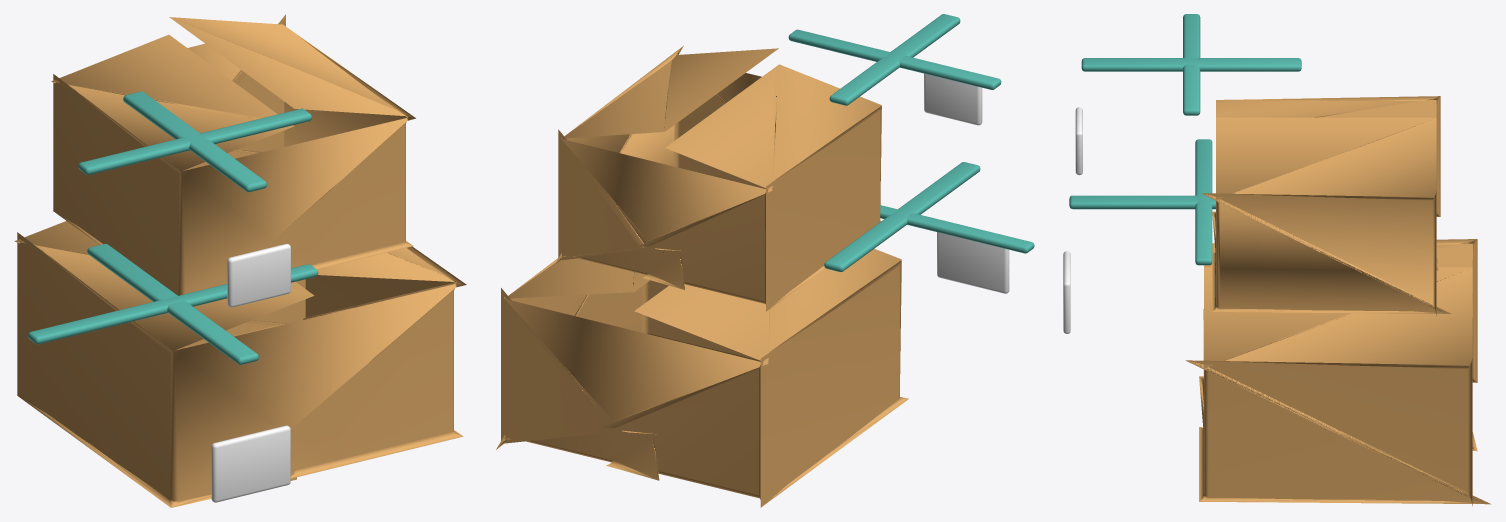
File: hotelParcelStack.glb
The picture shows the model from 3 angles, left to right: view 1: azimuth 30°, elevation 25°; view 2: azimuth 150°, elevation 25°; view 3: azimuth 270°, elevation 25°; orthographic projection. The views are drawn at different scales.
Parts seen in each view (by area): view 1: hotelParcelStack Kenney CC0 paper carton, hotelParcelStack Bellmare parcel teal cloth tape, hotelParcelStack Bellmare parcel address paper; view 2: hotelParcelStack Kenney CC0 paper carton, hotelParcelStack Bellmare parcel teal cloth tape, hotelParcelStack Bellmare parcel address paper; view 3: hotelParcelStack Kenney CC0 paper carton, hotelParcelStack Bellmare parcel teal cloth tape, hotelParcelStack Bellmare parcel address paper.
Boxes of the visible parts, x1,y1,x2,y2 form: hotelParcelStack Kenney CC0 paper carton: (14,14,466,507); hotelParcelStack Bellmare parcel teal cloth tape: (28,91,318,364); hotelParcelStack Bellmare parcel address paper: (211,244,290,502); hotelParcelStack Kenney CC0 paper carton: (496,46,908,507); hotelParcelStack Bellmare parcel teal cloth tape: (788,14,1034,271); hotelParcelStack Bellmare parcel address paper: (924,73,1009,293); hotelParcelStack Kenney CC0 paper carton: (1185,96,1491,506); hotelParcelStack Bellmare parcel teal cloth tape: (1069,14,1301,265); hotelParcelStack Bellmare parcel address paper: (1063,107,1082,333).
Bounding box in the file's own units: 0.7144 × 0.5951 × 0.7009.
